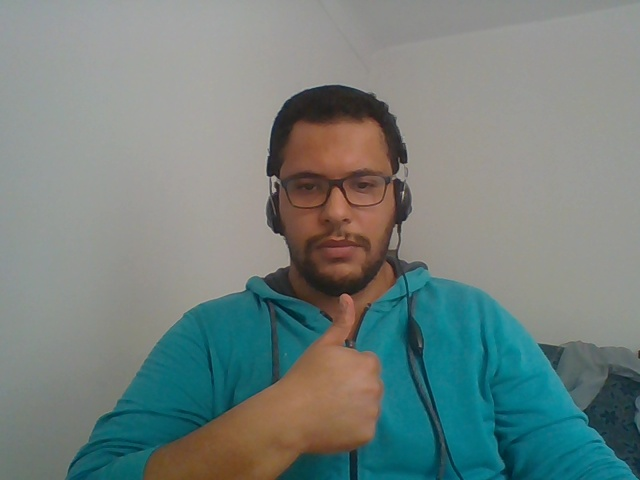ok: (255, 286, 405, 473)
